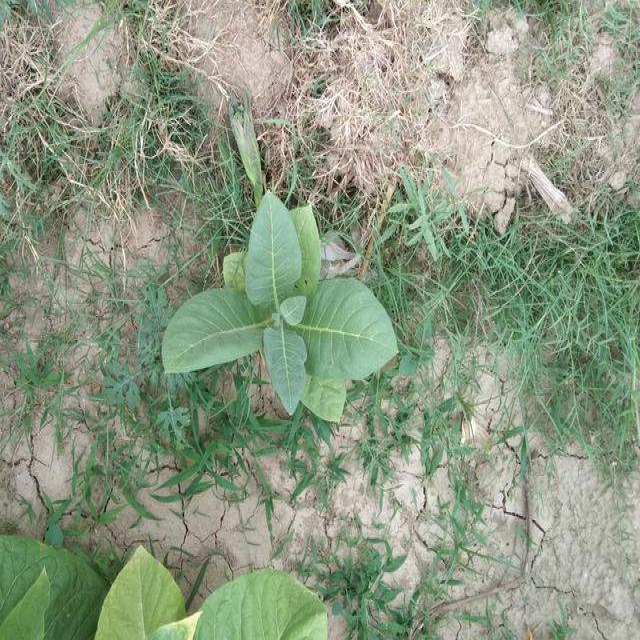crop: (155, 184, 401, 426)
